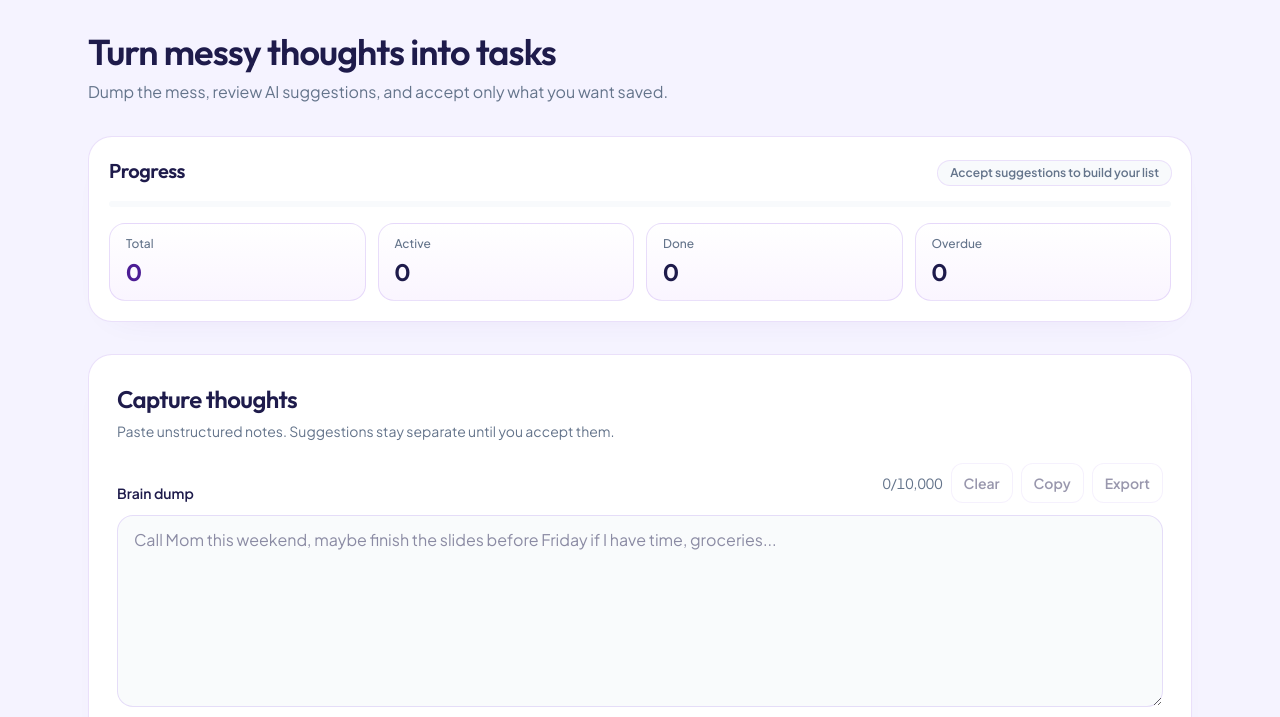
BrainDumpWorkspace › sends text, reference date, and timezone to the extract API
This screenshot has width=1280, height=717.
Type "Call Mom this weekend and finish slides" into the text box labelled "Brain dump". click: (640, 611)
box: [117,515,1163,707]
(page scrolled)
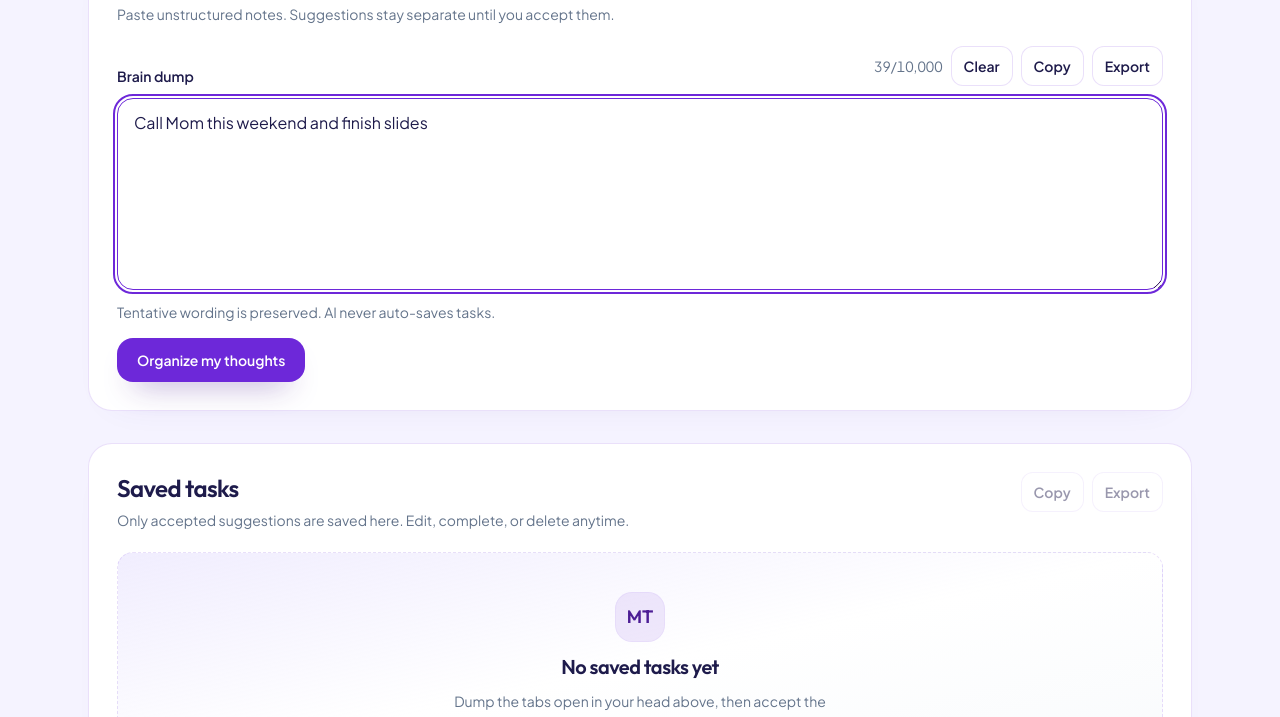
Click the button "Organize my thoughts". click: (211, 360)
box: [117,338,306,382]
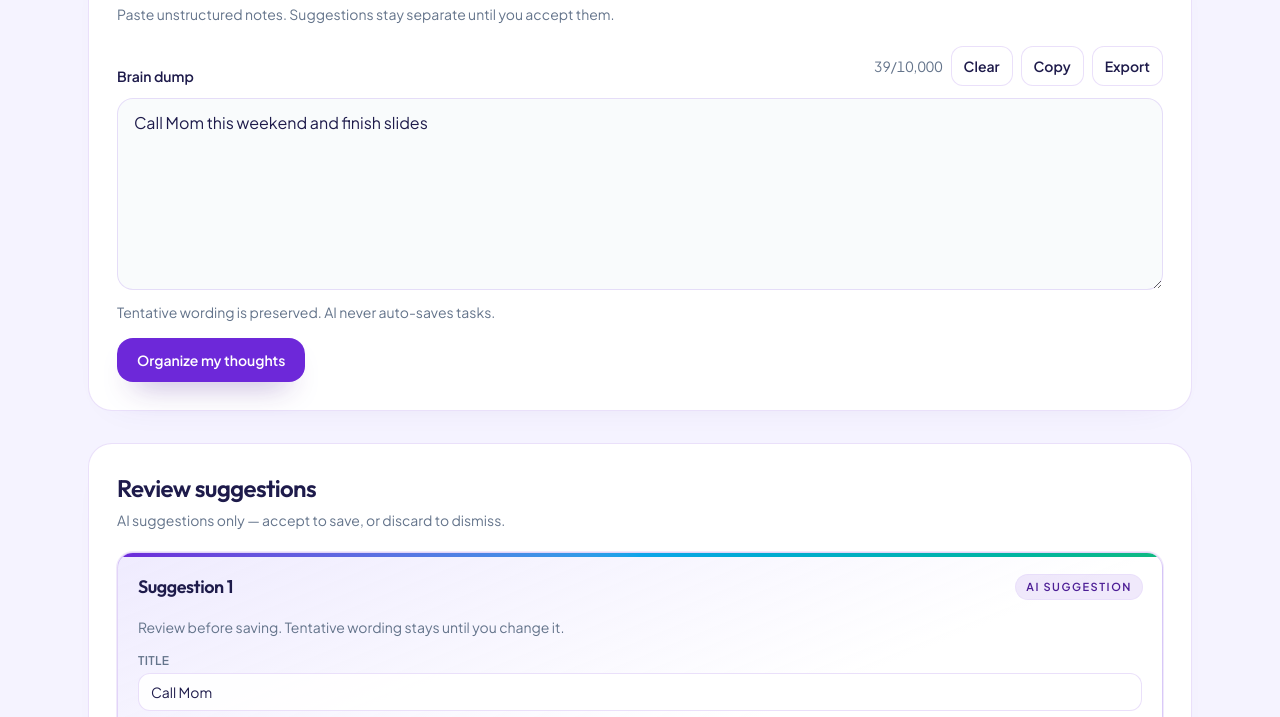
Expected: the heading "Review suggestions" is shown, [117,473,316,503]
